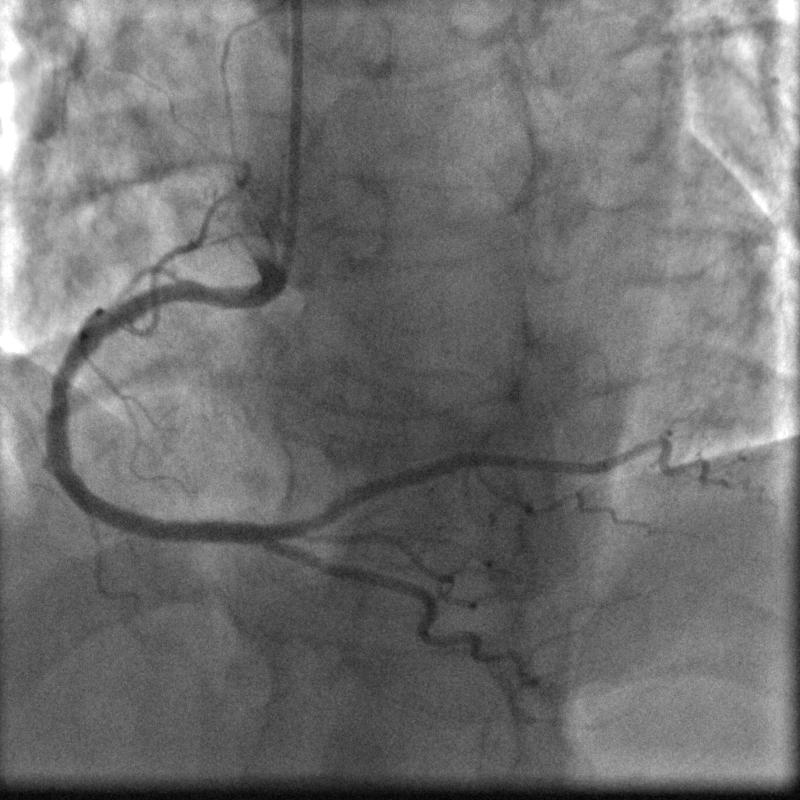Stenosis: (46, 362, 72, 422)
